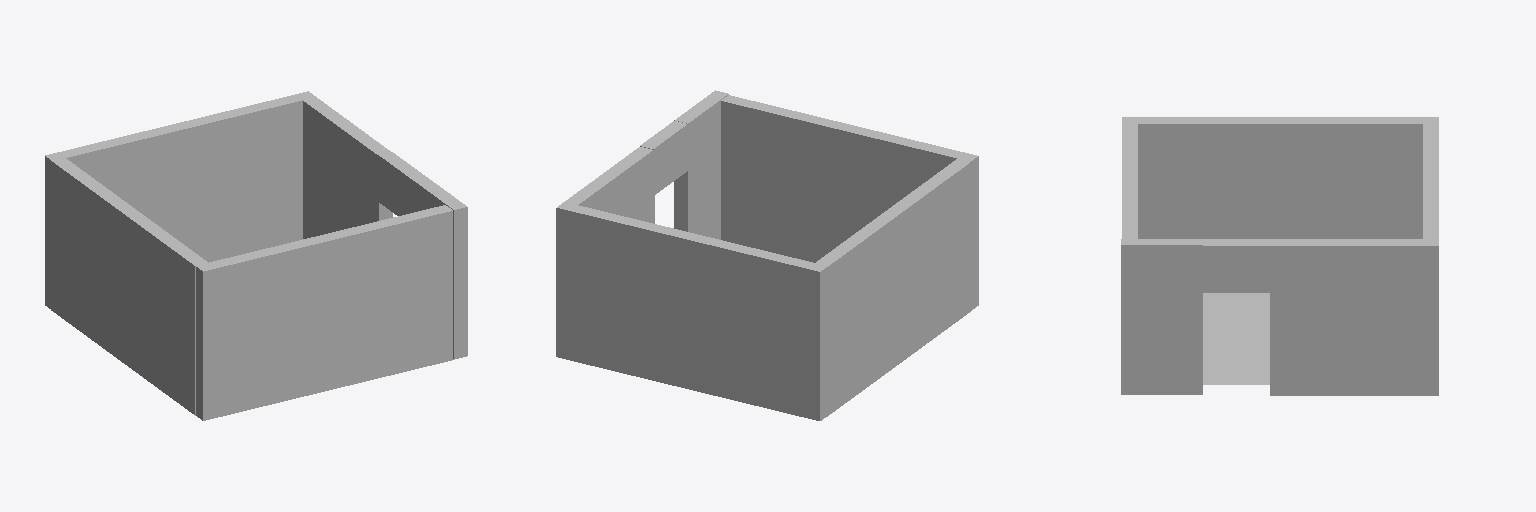
File: walls.obj
3 renders of one model, left to right at view 1: azimuth 30°, elevation 25°; view 2: azimuth 150°, elevation 25°; view 3: azimuth 270°, elevation 25°, orthographic.
Visible parts, largest first — view 1: pCube1, pCube3, pCube2, pCube4, pCube5, pCube6; view 2: pCube3, pCube1, pCube2, pCube4, pCube5, pCube6; view 3: pCube2, pCube4, pCube5, pCube7, pCube6, pCube3, pCube1.
Part boxes in pixels (x1,y1,x2,y2): pCube1: (196,205,453,420); pCube3: (45,95,302,308); pCube2: (51,157,207,415); pCube4: (295,91,392,238); pCube5: (413,177,467,359); pCube6: (378,152,425,215); pCube3: (570,205,826,420); pCube1: (721,95,978,310); pCube2: (814,159,970,416); pCube4: (556,147,654,359); pCube5: (674,90,728,239); pCube6: (640,121,687,194); pCube2: (1137,117,1425,238); pCube4: (1270,239,1438,395); pCube5: (1121,239,1202,394); pCube7: (1203,293,1269,384); pCube6: (1190,239,1271,292); pCube3: (1423,117,1438,239); pCube1: (1122,117,1137,238).
Size of the model in its own units: 4.43 by 2.41 by 4.61.